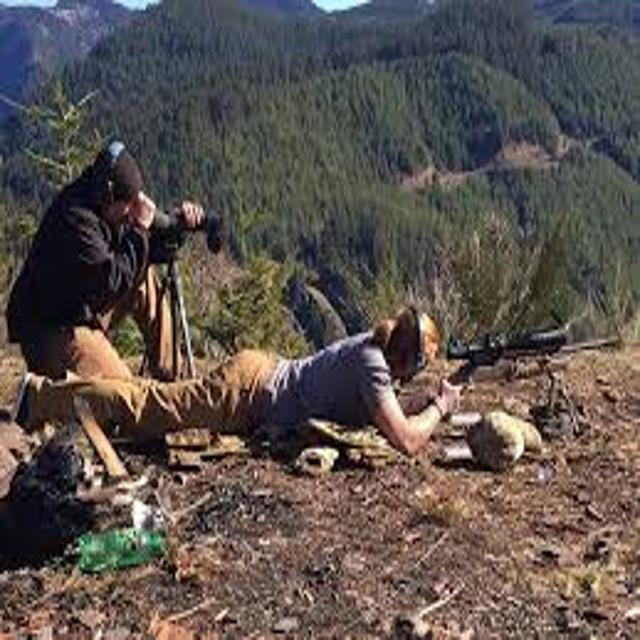gun: (389, 299, 636, 445)
poacher: (6, 284, 545, 495), (4, 116, 249, 414)
